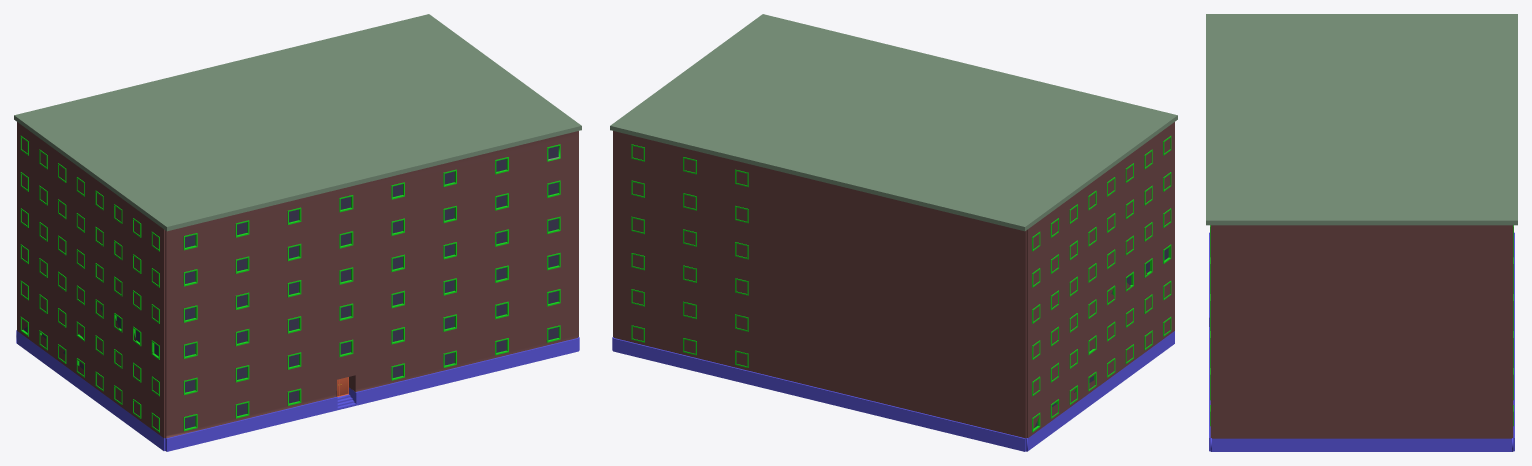
Rendered from BCL40_F06_01.fbx.
The picture shows the model from 3 angles, left to right: view 1: azimuth 30°, elevation 25°; view 2: azimuth 150°, elevation 25°; view 3: azimuth 270°, elevation 25°; orthographic projection. The views are drawn at different scales.
Parts seen in each view (by area): view 1: BCL40_F06_01; view 2: BCL40_F06_01; view 3: BCL40_F06_01.
Part boxes in pixels (x1=…): BCL40_F06_01: x1=14, y1=14, x2=581, y2=451; BCL40_F06_01: x1=610, y1=14, x2=1177, y2=451; BCL40_F06_01: x1=1206, y1=14, x2=1517, y2=451.
Size of the model in its own units: 4005 by 2085 by 2550.
